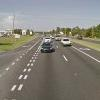Car: (38, 30, 76, 54)
